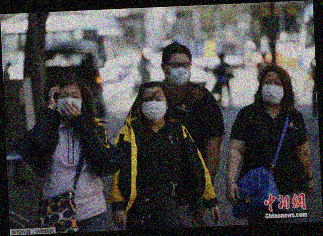with_mask: (54, 89, 84, 119), (141, 93, 167, 124), (259, 76, 286, 104), (165, 58, 191, 86)
